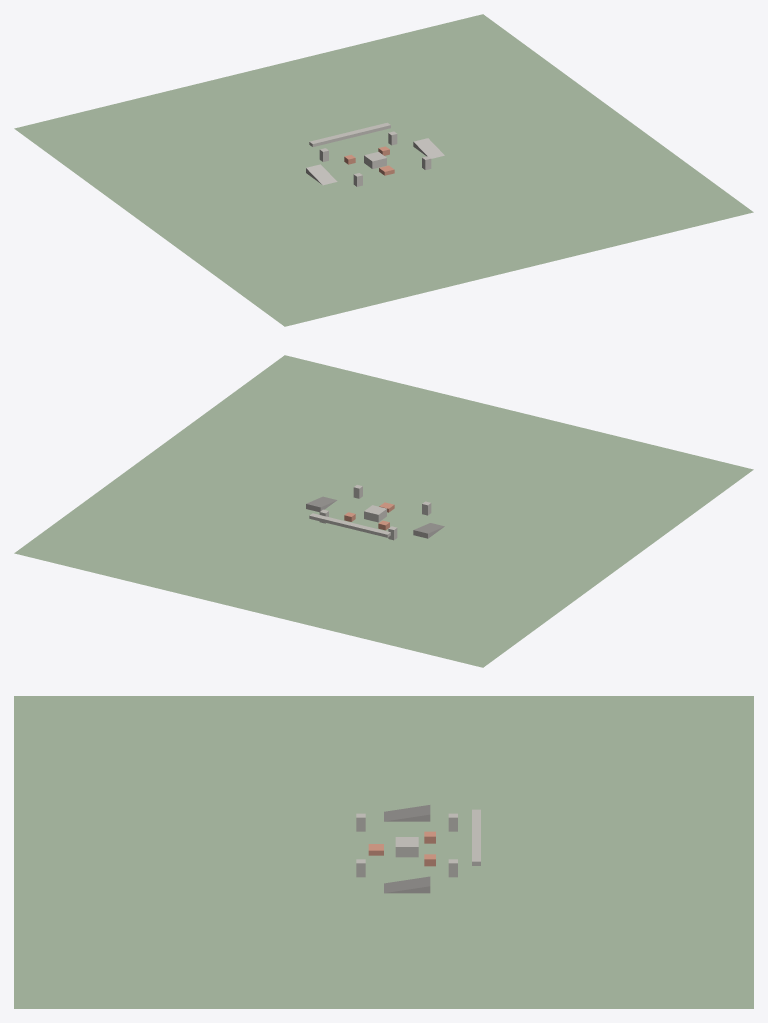
The model's file is main.glb.
3 renders of one model, top to bottom at view 1: azimuth 30°, elevation 25°; view 2: azimuth 150°, elevation 25°; view 3: azimuth 270°, elevation 25°, orthographic. The views are drawn at different scales.
Parts seen in each view (by area): view 1: placeholder_map; view 2: placeholder_map; view 3: placeholder_map.
Boxes of the visible parts, box(x1,y1,x2,y2) form: placeholder_map: box(14, 14, 753, 326); placeholder_map: box(14, 355, 753, 667); placeholder_map: box(14, 696, 753, 1008).
Size of the model in its own units: 192 by 4.8 by 192.
